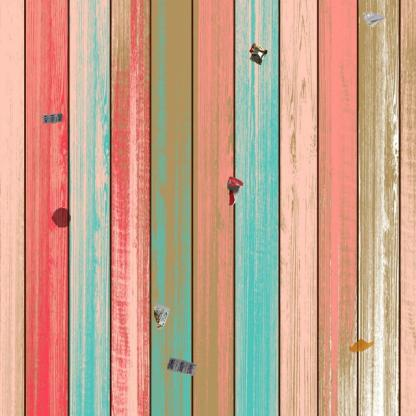dirty: (224, 173, 246, 208), (152, 300, 172, 331), (166, 356, 196, 376), (247, 40, 269, 67), (361, 9, 385, 30), (42, 112, 62, 124)
liquid: (50, 205, 72, 229), (348, 338, 374, 354)
